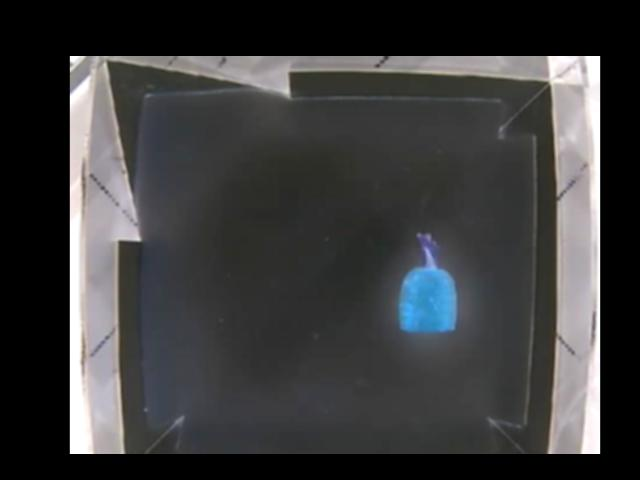Carrot: (398, 231, 458, 332)
